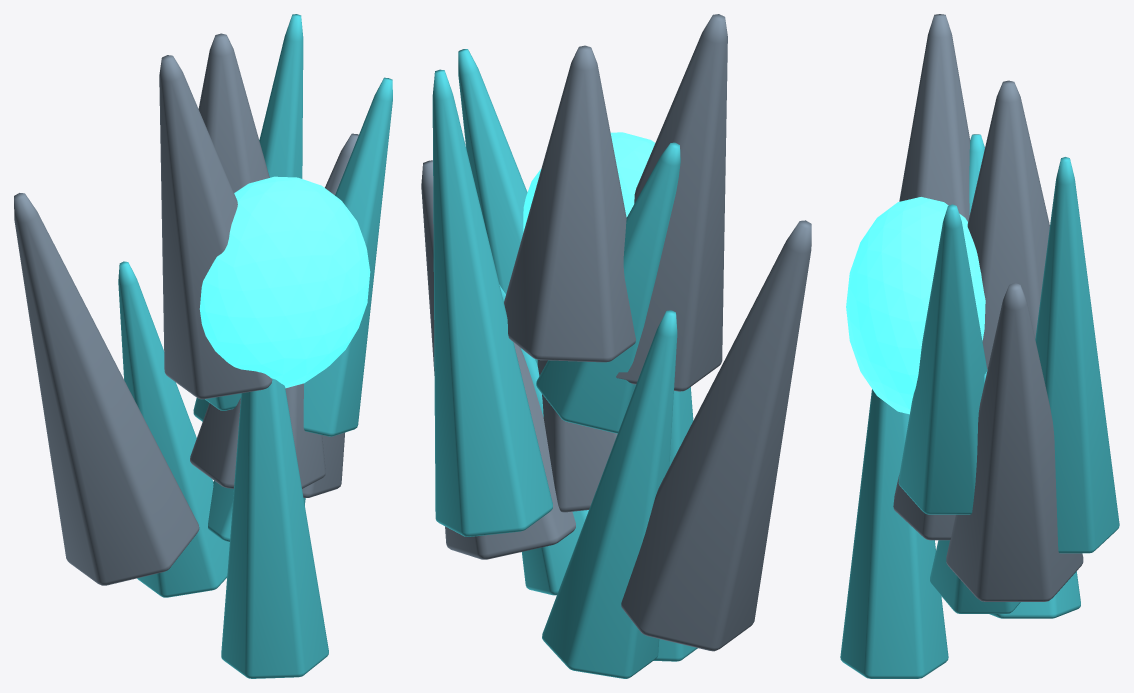
The model's file is elemental_v3.glb.
3 views of the same model, side by side, from view 1: azimuth 30°, elevation 25°; view 2: azimuth 150°, elevation 25°; view 3: azimuth 270°, elevation 25° (orthographic). The views are drawn at different scales.
Parts seen in each view (by area): view 1: CRYSTAL_PRIMARY.002, CRYSTAL_HEART_EMISSIVE, CRYSTAL_ACCENT.004, CRYSTAL_PRIMARY.003, CRYSTAL_ACCENT.002, CRYSTAL_ACCENT.005, CRYSTAL_PRIMARY.001, CRYSTAL_ACCENT.001, CRYSTAL_PRIMARY.004, CRYSTAL_PRIMARY, CRYSTAL_ACCENT; view 2: CRYSTAL_PRIMARY.002, CRYSTAL_ACCENT.001, CRYSTAL_PRIMARY.001, CRYSTAL_ACCENT.002, CRYSTAL_PRIMARY.003, CRYSTAL_ACCENT.003, CRYSTAL_ACCENT.005, CRYSTAL_PRIMARY, CRYSTAL_PRIMARY.004, CRYSTAL_ACCENT, CRYSTAL_HEART_EMISSIVE, CRYSTAL_ACCENT.004; view 3: CRYSTAL_PRIMARY, CRYSTAL_ACCENT.001, CRYSTAL_ACCENT.004, CRYSTAL_ACCENT.005, CRYSTAL_HEART_EMISSIVE, CRYSTAL_PRIMARY.001, CRYSTAL_PRIMARY.003, CRYSTAL_ACCENT, CRYSTAL_PRIMARY.004, CRYSTAL_ACCENT.002, CRYSTAL_ACCENT.003.
Boxes of the visible parts, left/top/right/bottom form: CRYSTAL_PRIMARY.002: left=14, top=193, right=199, bottom=585; CRYSTAL_HEART_EMISSIVE: left=199, top=176, right=370, bottom=388; CRYSTAL_ACCENT.004: left=221, top=378, right=328, bottom=678; CRYSTAL_PRIMARY.003: left=159, top=55, right=272, bottom=399; CRYSTAL_ACCENT.002: left=118, top=261, right=229, bottom=597; CRYSTAL_ACCENT.005: left=303, top=77, right=392, bottom=436; CRYSTAL_PRIMARY.001: left=198, top=33, right=269, bottom=192; CRYSTAL_ACCENT.001: left=193, top=14, right=303, bottom=421; CRYSTAL_PRIMARY.004: left=190, top=383, right=325, bottom=488; CRYSTAL_PRIMARY: left=302, top=133, right=358, bottom=497; CRYSTAL_ACCENT: left=208, top=480, right=305, bottom=541; CRYSTAL_PRIMARY.002: left=621, top=220, right=811, bottom=651; CRYSTAL_ACCENT.001: left=432, top=69, right=552, bottom=536; CRYSTAL_PRIMARY.001: left=504, top=45, right=635, bottom=362; CRYSTAL_ACCENT.002: left=542, top=310, right=677, bottom=678; CRYSTAL_PRIMARY.003: left=616, top=14, right=727, bottom=391; CRYSTAL_ACCENT.003: left=536, top=142, right=680, bottom=433; CRYSTAL_ACCENT.005: left=458, top=49, right=537, bottom=364; CRYSTAL_PRIMARY: left=421, top=160, right=575, bottom=559; CRYSTAL_PRIMARY.004: left=537, top=360, right=617, bottom=512; CRYSTAL_ACCENT: left=499, top=285, right=588, bottom=595; CRYSTAL_HEART_EMISSIVE: left=523, top=132, right=655, bottom=232; CRYSTAL_ACCENT.004: left=653, top=387, right=697, bottom=661; CRYSTAL_PRIMARY: left=946, top=283, right=1083, bottom=601; CRYSTAL_ACCENT.001: left=1035, top=157, right=1119, bottom=553; CRYSTAL_ACCENT.004: left=840, top=389, right=948, bottom=678; CRYSTAL_ACCENT.005: left=898, top=204, right=987, bottom=514; CRYSTAL_HEART_EMISSIVE: left=846, top=197, right=985, bottom=414; CRYSTAL_PRIMARY.001: left=967, top=80, right=1049, bottom=369; CRYSTAL_PRIMARY.003: left=899, top=14, right=970, bottom=221; CRYSTAL_ACCENT: left=930, top=369, right=1020, bottom=613; CRYSTAL_PRIMARY.004: left=893, top=475, right=955, bottom=540; CRYSTAL_ACCENT.002: left=989, top=571, right=1080, bottom=618; CRYSTAL_ACCENT.003: left=969, top=134, right=984, bottom=214.
Size of the model in its own units: 1.3 by 2.15 by 0.8927.
